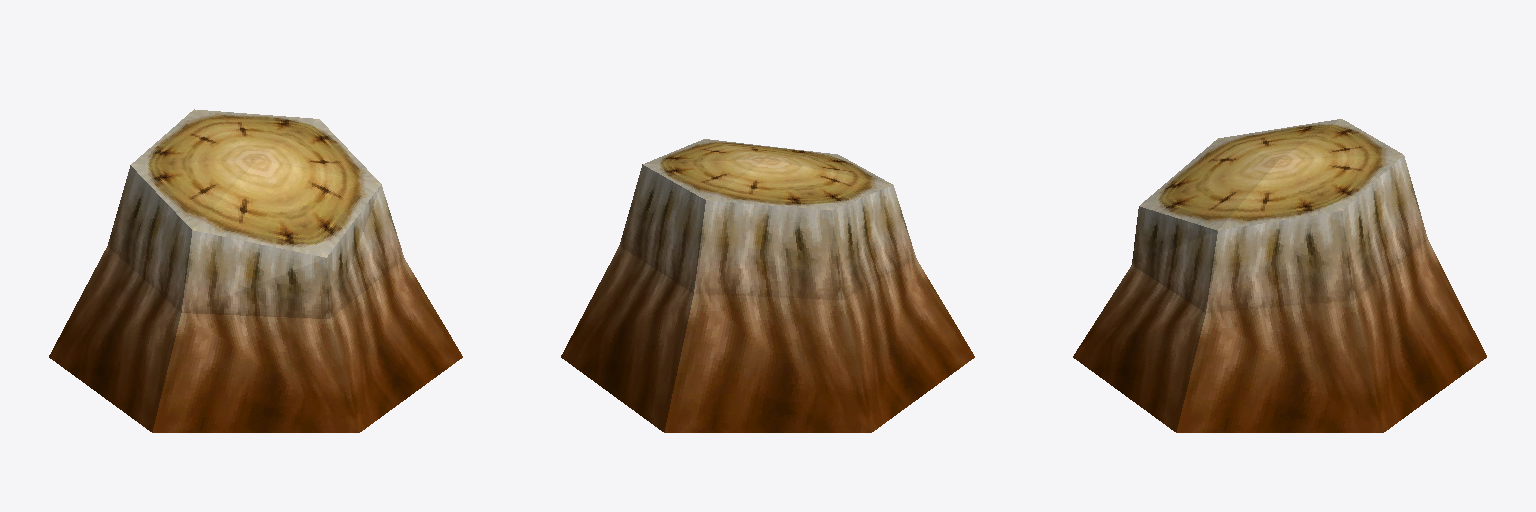
3 views of the same model, side by side, from view 1: azimuth 30°, elevation 25°; view 2: azimuth 150°, elevation 25°; view 3: azimuth 270°, elevation 25° (orthographic).
Visible parts, largest first — view 1: object 1; view 2: object 1; view 3: object 1.
Part boxes in pixels (x1,y1,x2,y2): object 1: (49, 109, 462, 432); object 1: (561, 139, 974, 432); object 1: (1073, 119, 1486, 432).
Size of the model in its own units: 13.13 by 8.15 by 15.16.
Materials: 1 (1 with a texture image).